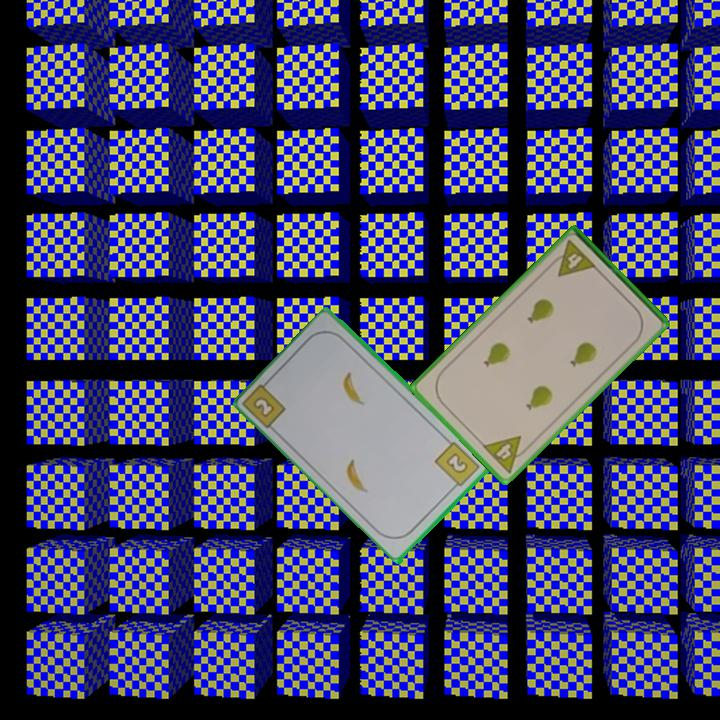2b: (432, 438, 483, 493), (252, 395, 278, 420)
4p: (479, 432, 533, 476), (546, 237, 599, 280)
